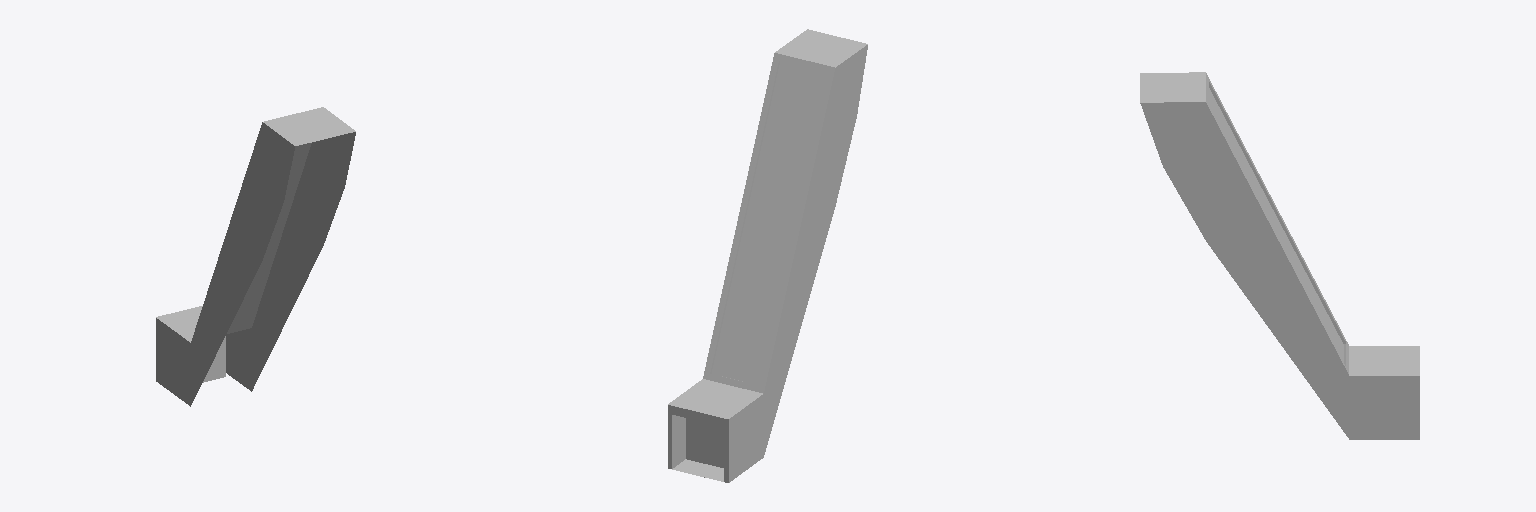
The model's file is TheKeepRamp.obj.
The picture shows the model from 3 angles: view 1: azimuth 30°, elevation 25°; view 2: azimuth 150°, elevation 25°; view 3: azimuth 270°, elevation 25°; orthographic projection.
Parts seen in each view (by area): view 1: GoUpThing_Cube.008; view 2: GoUpThing_Cube.008; view 3: GoUpThing_Cube.008.
Part boxes in pixels (x1,y1,x2,y2): GoUpThing_Cube.008: (156,107,355,406); GoUpThing_Cube.008: (668,29,867,482); GoUpThing_Cube.008: (1140,72,1419,439).
Bounding box in the file's own units: 100 × 528 × 397.